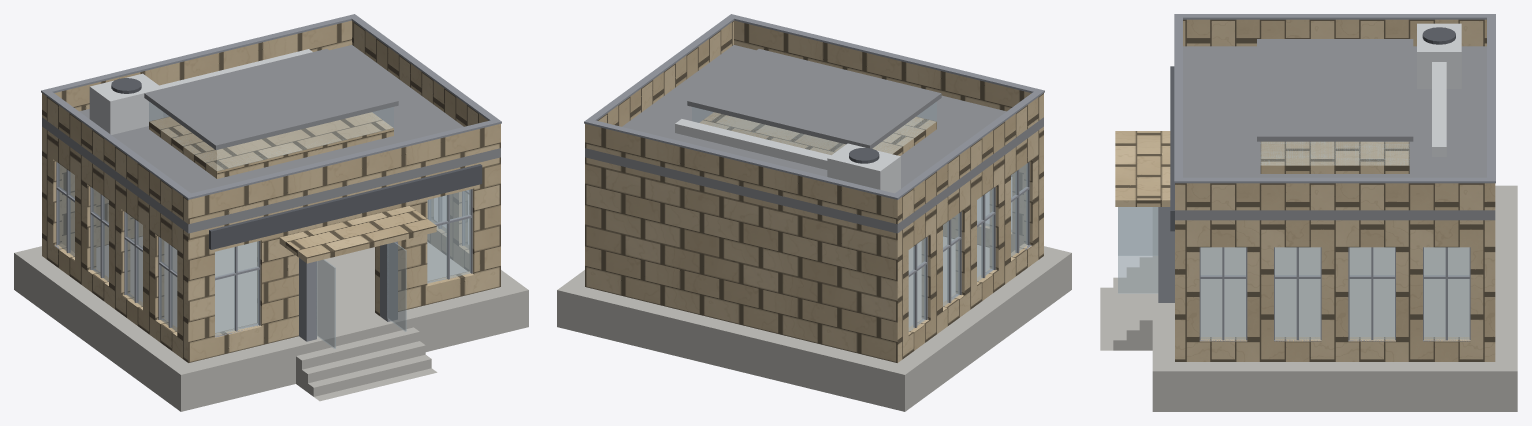
Rendered from spaces-ext-forum.glb.
3 renders of one model, left to right at view 1: azimuth 30°, elevation 25°; view 2: azimuth 150°, elevation 25°; view 3: azimuth 270°, elevation 25°, orthographic. The views are drawn at different scales.
Parts seen in each view (by area): view 1: forum exterior; view 2: forum exterior; view 3: forum exterior.
Boxes of the visible parts, bbox=[...] form: forum exterior: bbox=[14, 14, 528, 411]; forum exterior: bbox=[557, 14, 1071, 411]; forum exterior: bbox=[1100, 14, 1517, 411].
Size of the model in its own units: 11.8 by 6.9 by 11.2.
Materials: 7 (1 with a texture image).
